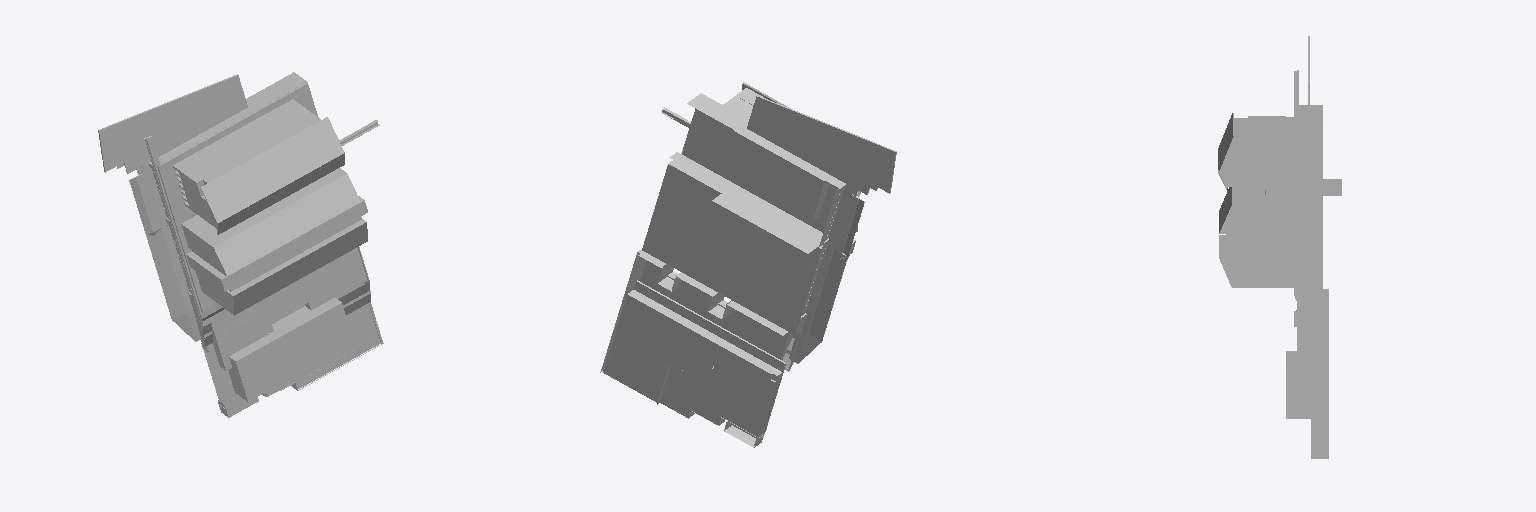
File: oldMPMassing2.obj
3 views of the same model, side by side, from view 1: azimuth 30°, elevation 25°; view 2: azimuth 150°, elevation 25°; view 3: azimuth 270°, elevation 25° (orthographic).
Size of the model in its own units: 392 by 450 by 148.